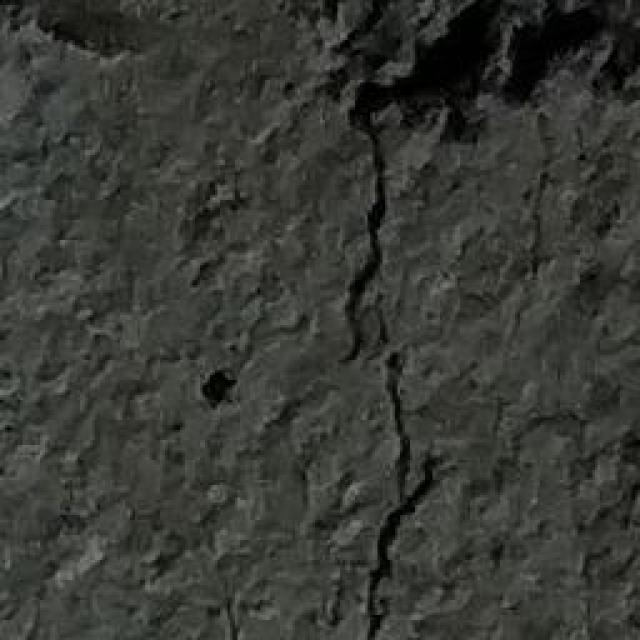Longitudinal: (287, 3, 443, 640)
